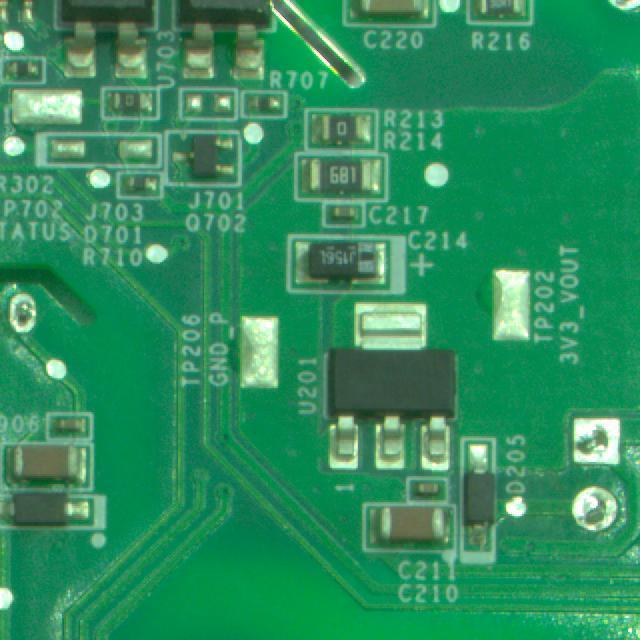Insufficient solder: (551, 405, 640, 468), (552, 478, 633, 530), (5, 290, 50, 341)
